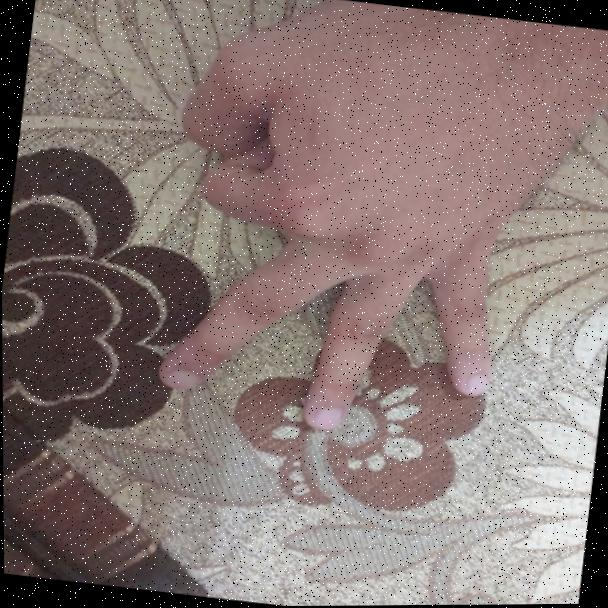five: (144, 0, 562, 467)
